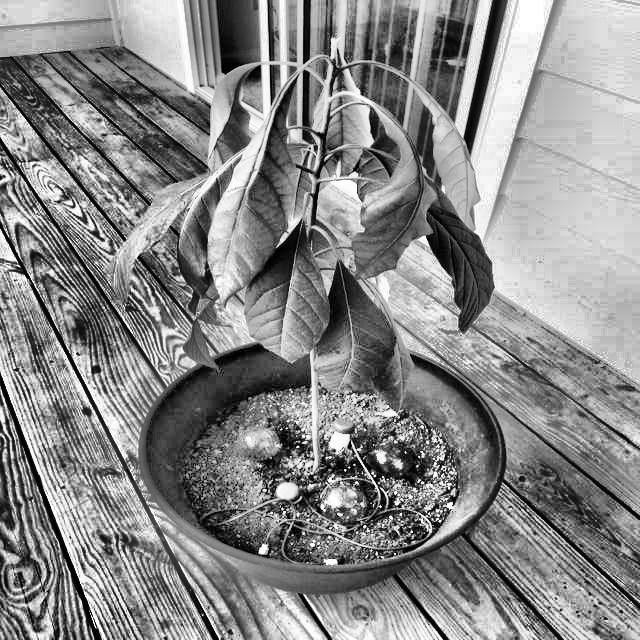plants: (136, 42, 496, 600)
